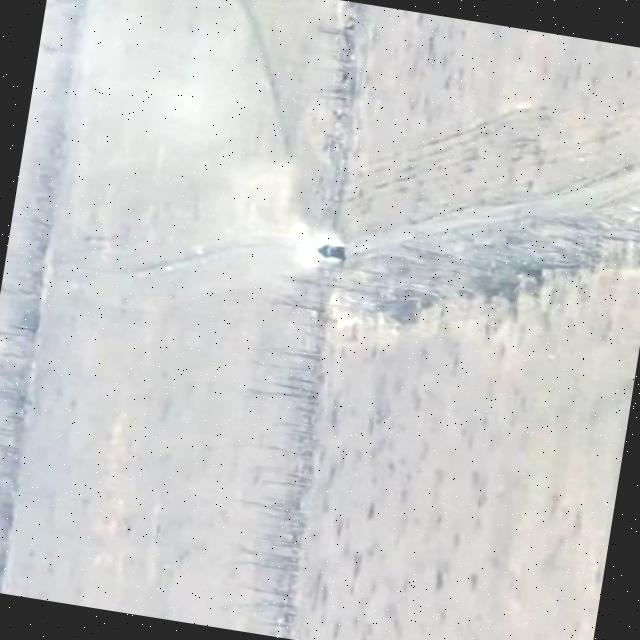Vehicle: (317, 242, 349, 262)
